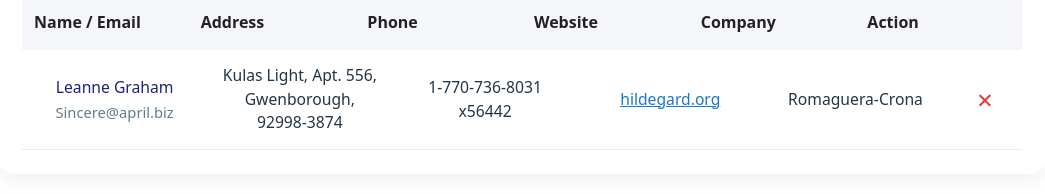
Scenario: UserDirectoryFeature › deletes a user from the list
Check: the text "Leanne Graham" is shown, box [56, 76, 173, 98]
Click the button named "Delete user".
click(985, 100)  # box [960, 84, 1010, 116]
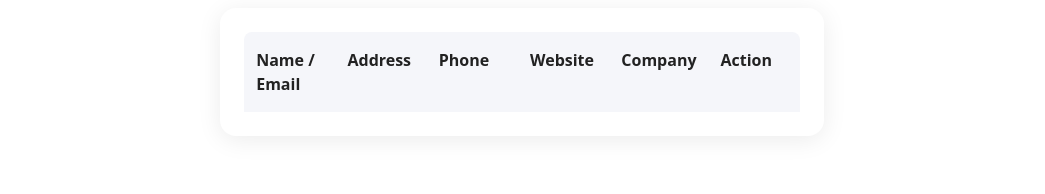
Check: the button "Leanne Graham" is gone
